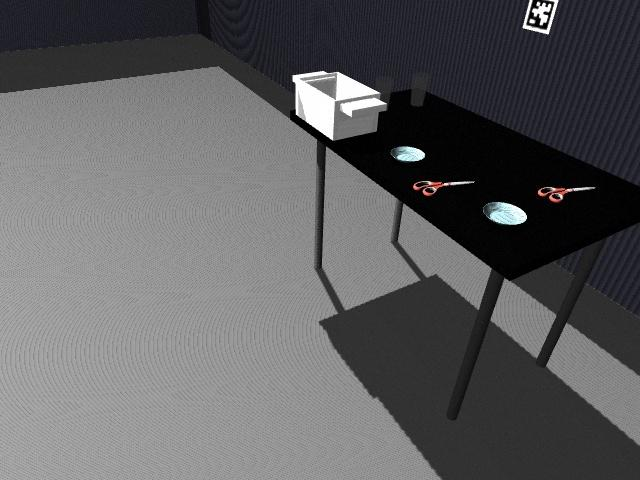cup: (410, 72, 429, 107), (375, 75, 394, 108)
plate: (482, 200, 530, 226), (389, 146, 425, 162)
scissors: (412, 180, 475, 198), (535, 186, 595, 204)
